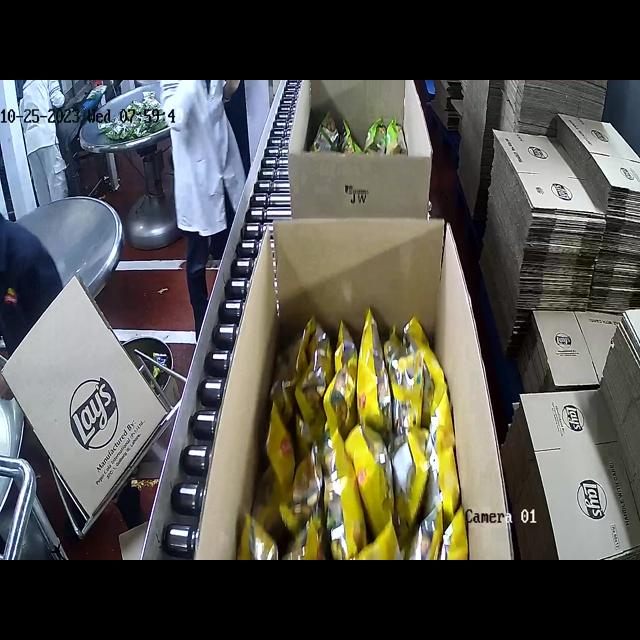salted: (236, 306, 468, 558)
yogurt: (305, 103, 408, 147)
